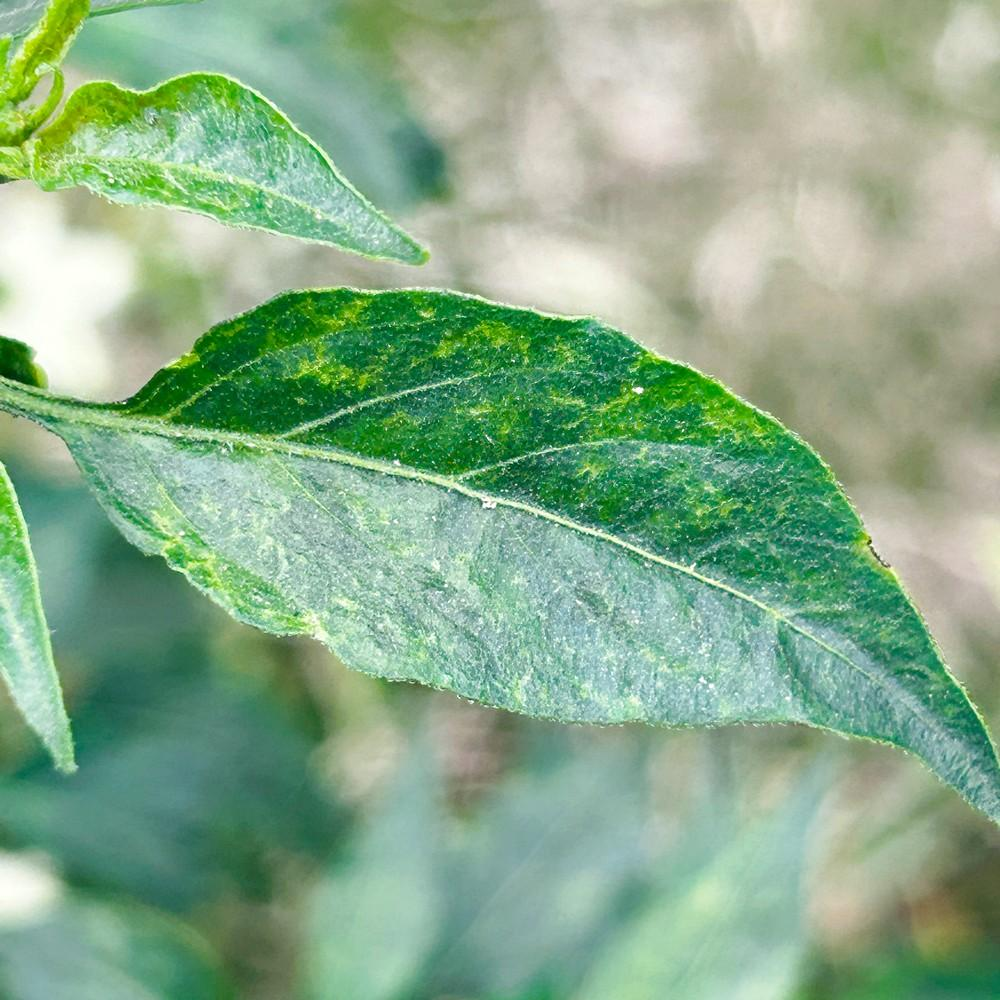Daun Cabai Sehat: (0, 282, 999, 827), (24, 68, 431, 267)
